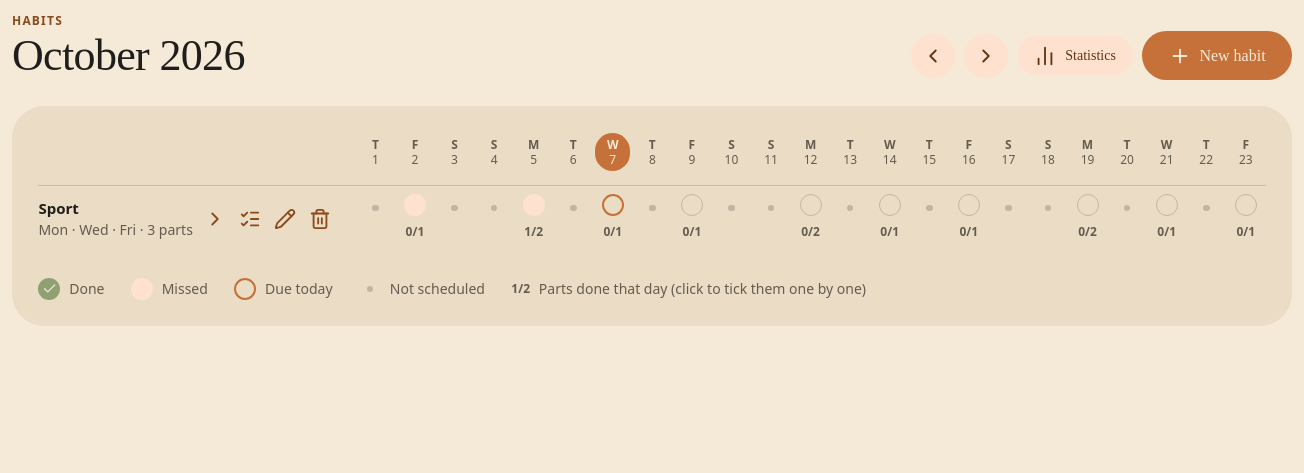
Test case: the parts as rows under the habit › opens and closes the rows of the parts with the button of the habit
Expected: the table is shown, [38, 133, 1266, 252]
Expected: the element "Legs" is not shown
Click the button named "Show parts of Sport": (215, 219) [197, 201, 232, 236]
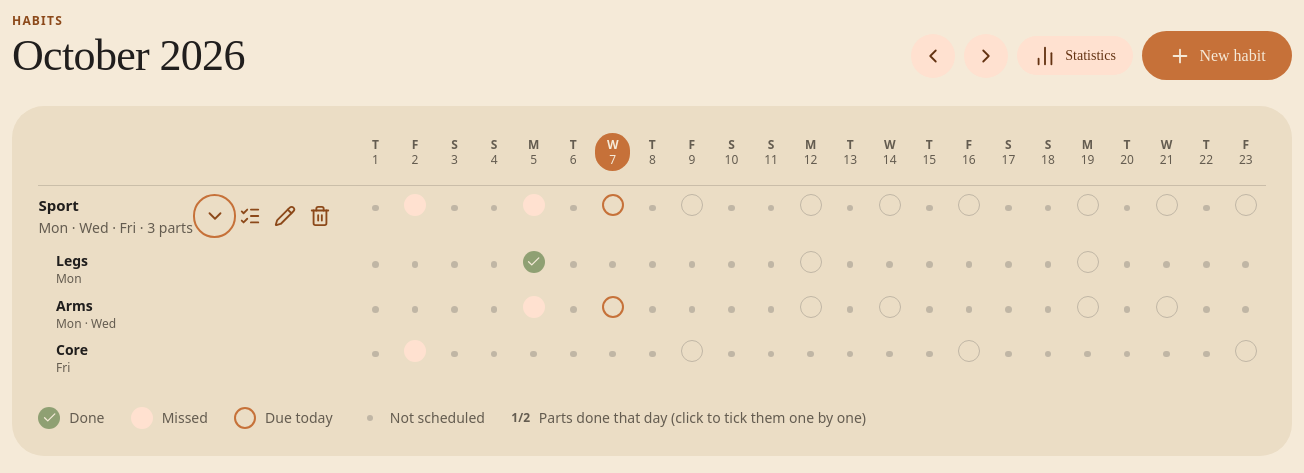
Expected: the column heading named "Legs of Sport" is shown, [38, 246, 356, 291]
Click the button named "Hide parts of Sport": (215, 216) [197, 198, 232, 234]
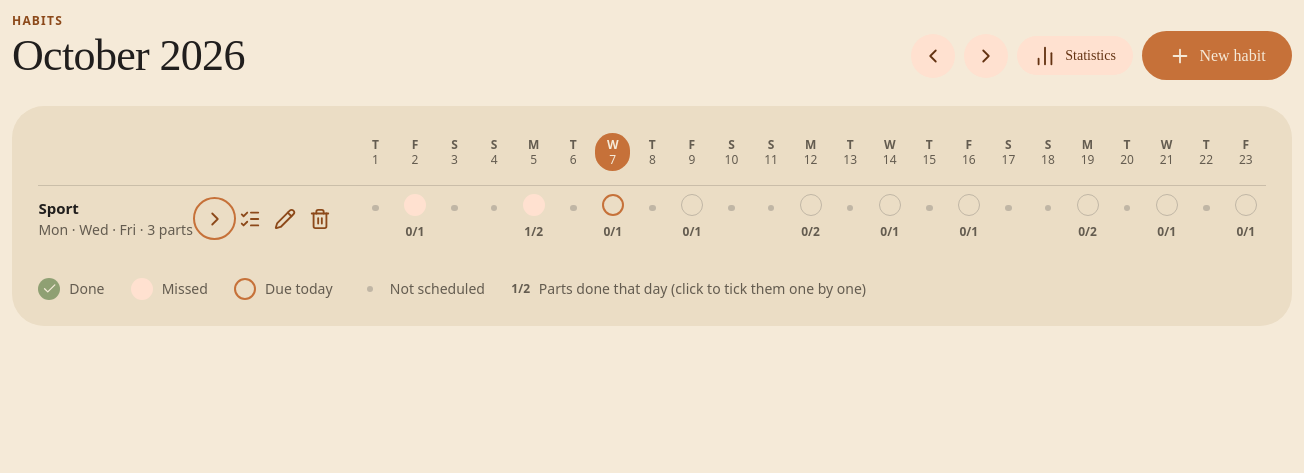
Expected: the text "Legs" is gone
